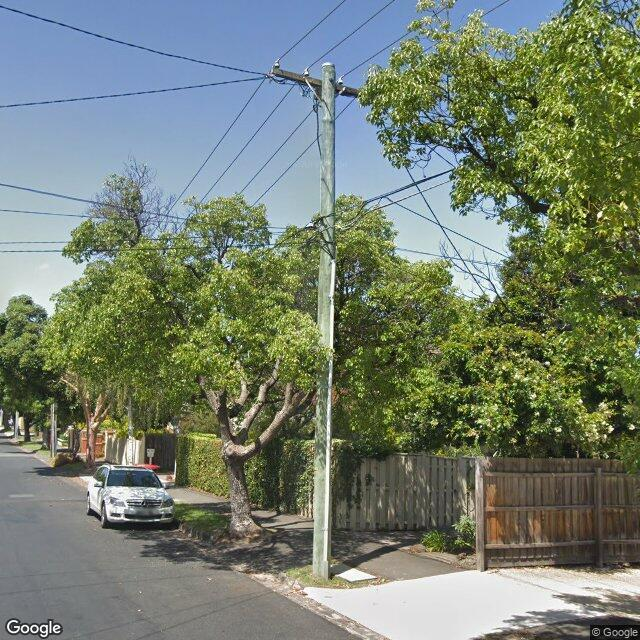crossarm: (270, 67, 362, 99)
timber-pole: (312, 62, 337, 580)
